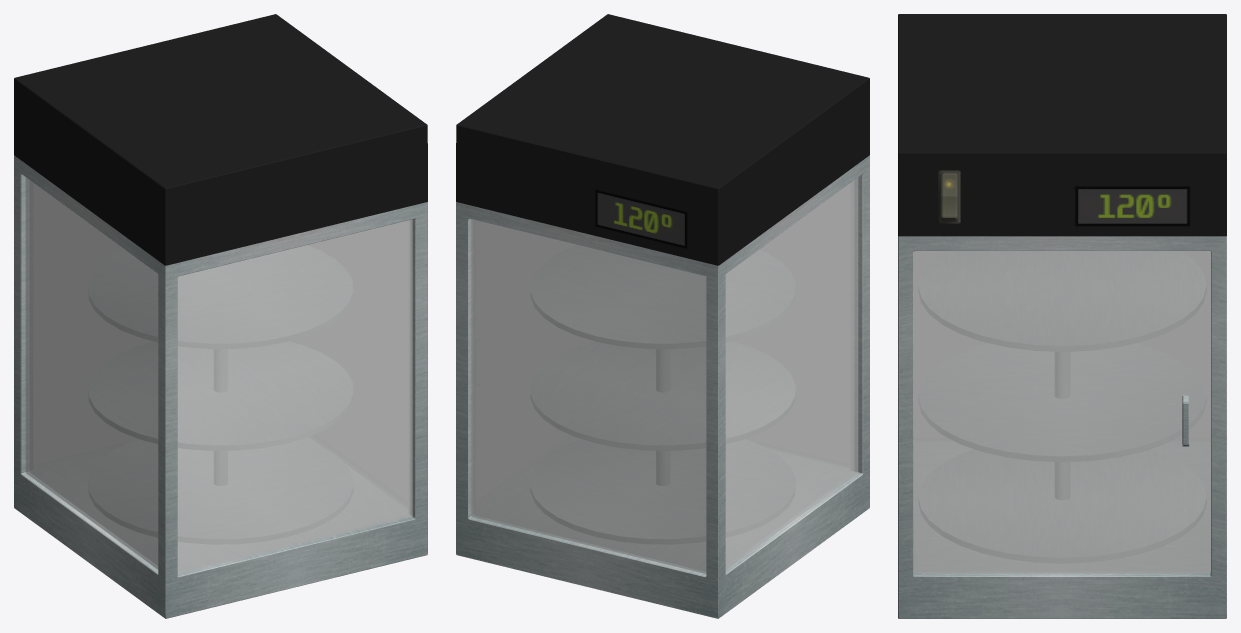
Rendered from Hotholder.gltf.
The picture shows the model from 3 angles, left to right: view 1: azimuth 30°, elevation 25°; view 2: azimuth 150°, elevation 25°; view 3: azimuth 270°, elevation 25°; orthographic projection. The views are drawn at different scales.
Visible parts, largest first — view 1: Hot_hold, Hot_hold_glass, Hot_hold_tray; view 2: Hot_hold, Hot_hold_glass, Hot_hold_tray; view 3: Hot_hold, Hot_hold_glassDoor, Hot_hold_tray.
Part boxes in pixels (x1,y1,x2,y2): Hot_hold: (14, 14, 427, 618); Hot_hold_glass: (25, 177, 412, 573); Hot_hold_tray: (89, 246, 352, 543); Hot_hold: (456, 14, 869, 618); Hot_hold_glass: (471, 177, 858, 573); Hot_hold_tray: (531, 246, 794, 543); Hot_hold: (898, 14, 1226, 618); Hot_hold_glassDoor: (914, 251, 1210, 573); Hot_hold_tray: (919, 251, 1205, 562).
Size of the model in its own units: 0.8544 by 1.33 by 0.8511.
3 materials, 2 textured.
